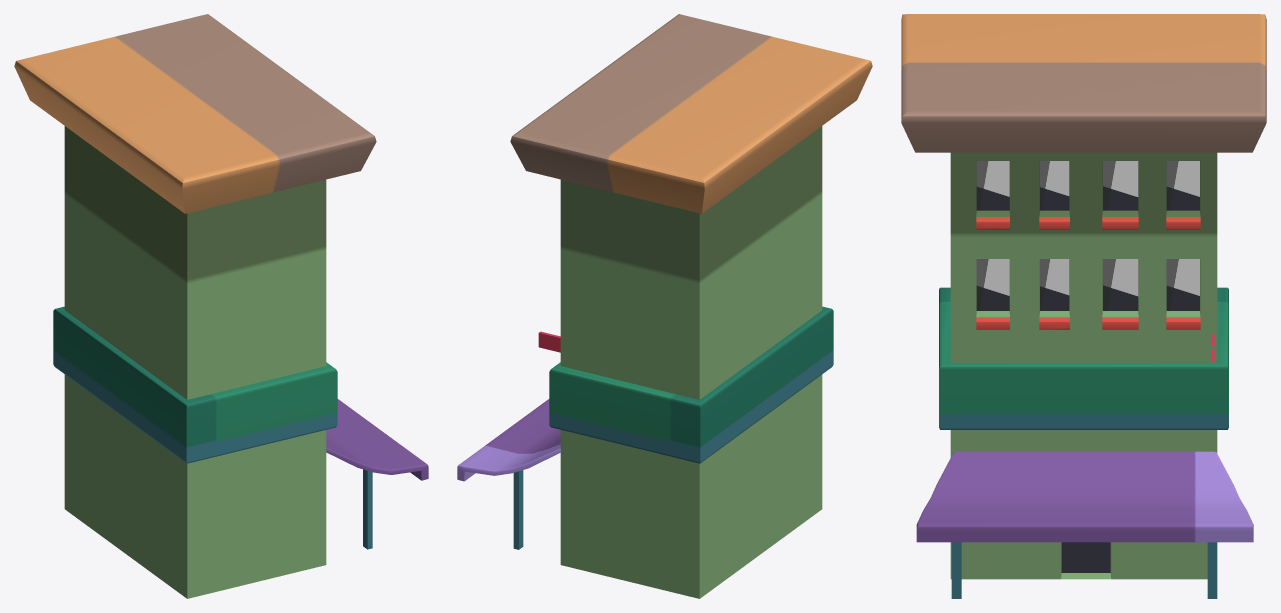
The model's file is BuildingShort_03B.fbx.
3 renders of one model, left to right at view 1: azimuth 30°, elevation 25°; view 2: azimuth 150°, elevation 25°; view 3: azimuth 270°, elevation 25°, orthographic. The views are drawn at different scales.
Parts seen in each view (by area): view 1: polySurface1069; view 2: polySurface1069; view 3: polySurface1069.
Part boxes in pixels (box(x1,y1,x2,y2)): polySurface1069: box(14, 14, 428, 598); polySurface1069: box(457, 14, 872, 598); polySurface1069: box(901, 14, 1266, 598).
Size of the model in its own units: 5.5 by 9.15 by 6.31.
